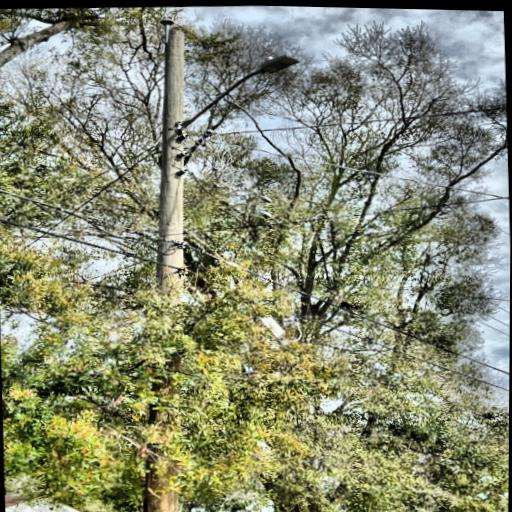pole: (118, 24, 203, 512)
street light: (168, 49, 305, 140)
vegetation_encroachment: (105, 243, 206, 512)
